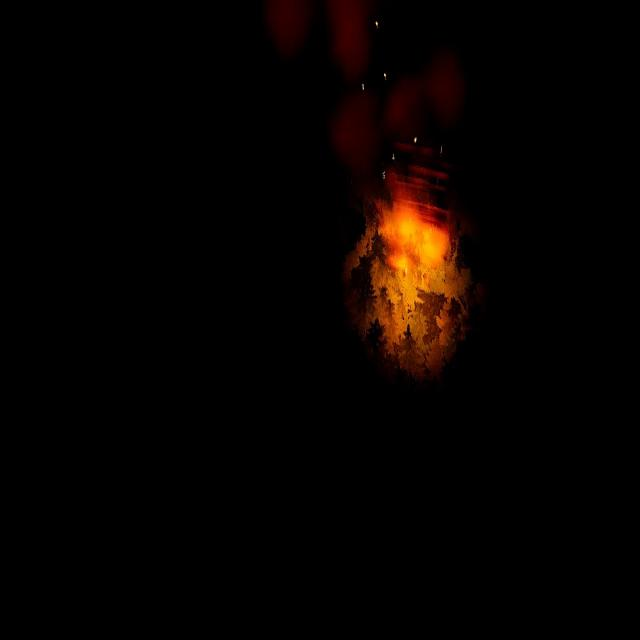fire: (386, 183, 452, 282)
smoke: (263, 1, 471, 182)
